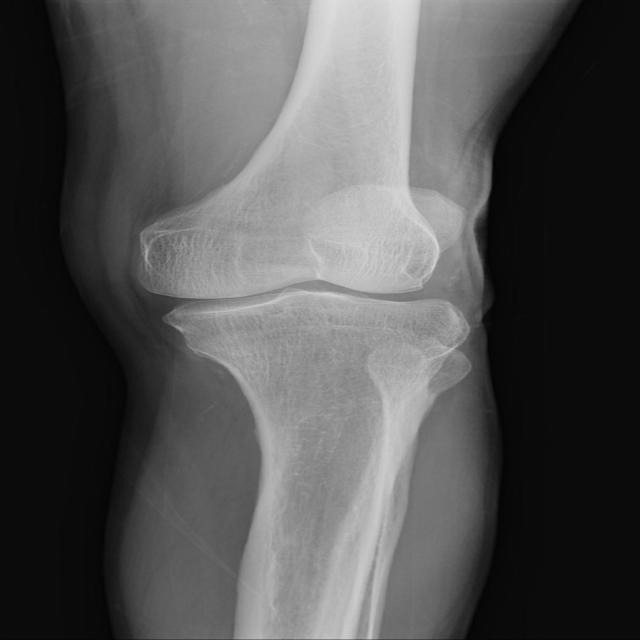normal: (125, 206, 473, 349)
